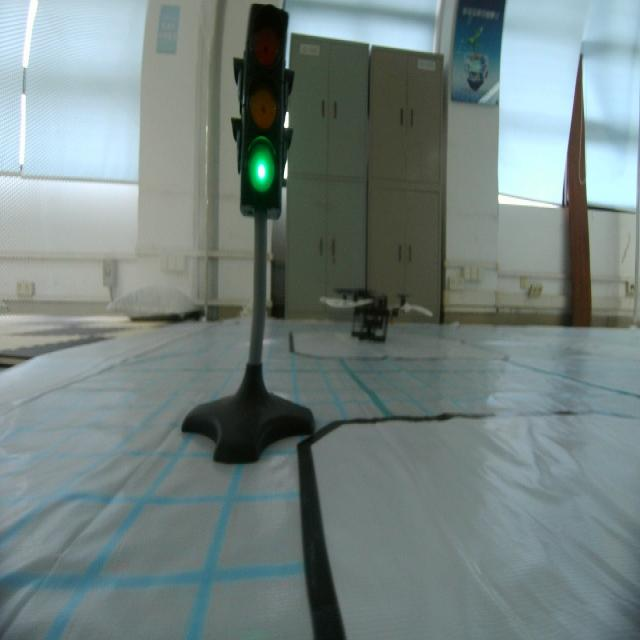green: (242, 8, 286, 214)
